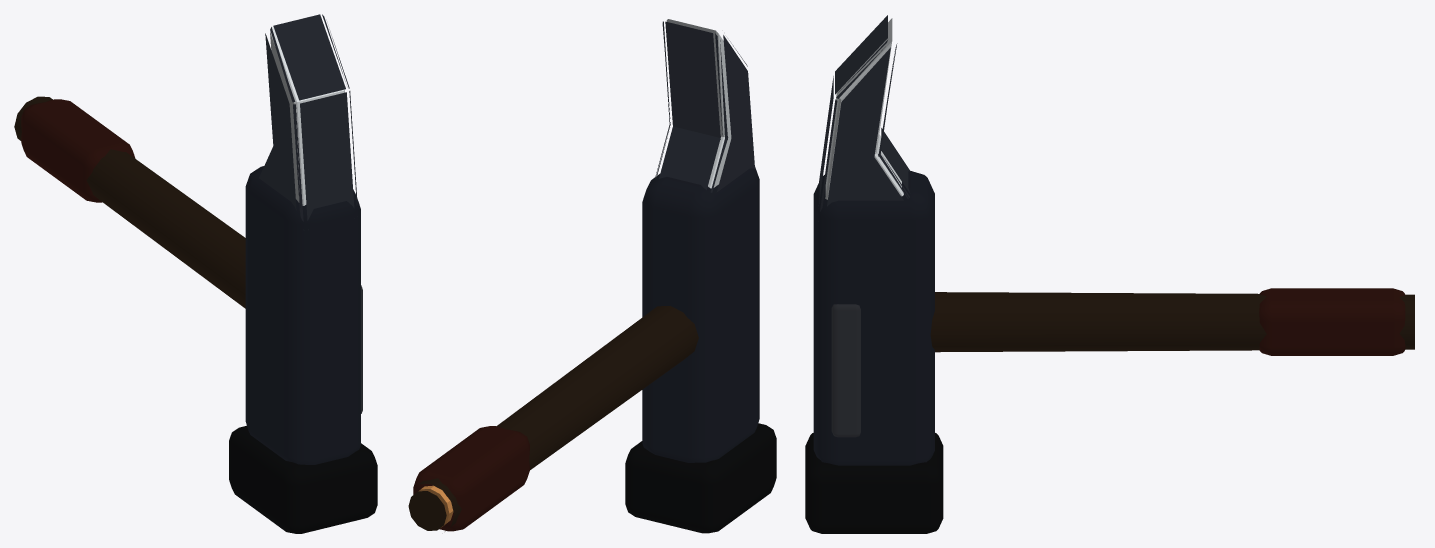
The model's file is pick.glb.
3 views of the same model, side by side, from view 1: azimuth 30°, elevation 25°; view 2: azimuth 150°, elevation 25°; view 3: azimuth 270°, elevation 25° (orthographic).
Visible parts, largest first — view 1: Lab_pick_Outline, Lab_pick_Body; view 2: Lab_pick_Outline, Lab_pick_Body; view 3: Lab_pick_Outline, Lab_pick_Body.
Part boxes in pixels (bbox=[...]): Lab_pick_Outline: bbox=[14, 14, 377, 533]; Lab_pick_Body: bbox=[270, 27, 344, 205]; Lab_pick_Outline: bbox=[408, 21, 776, 533]; Lab_pick_Body: bbox=[418, 19, 731, 527]; Lab_pick_Outline: bbox=[805, 15, 1414, 533]; Lab_pick_Body: bbox=[825, 18, 903, 199].
Size of the model in its own units: 0.2 by 0.9816 by 1.11.
